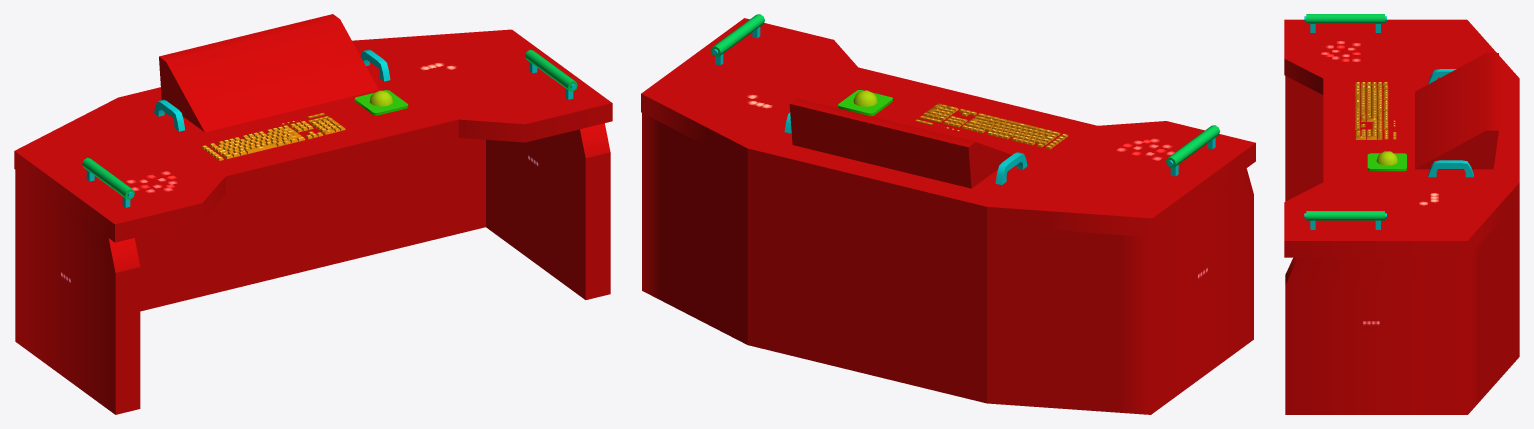
File: CIC_TableCut.fbx
3 views of the same model, side by side, from view 1: azimuth 30°, elevation 25°; view 2: azimuth 150°, elevation 25°; view 3: azimuth 270°, elevation 25° (orthographic). The views are drawn at different scales.
Visible parts, largest first — view 1: CIC_Table.001; view 2: CIC_Table.001; view 3: CIC_Table.001.
Boxes of the visible parts, left/top/right/bottom form: CIC_Table.001: left=14, top=14, right=612, bottom=414; CIC_Table.001: left=641, top=14, right=1255, bottom=414; CIC_Table.001: left=1284, top=14, right=1519, bottom=414.
Size of the model in its own units: 2 by 0.8975 by 0.9.
